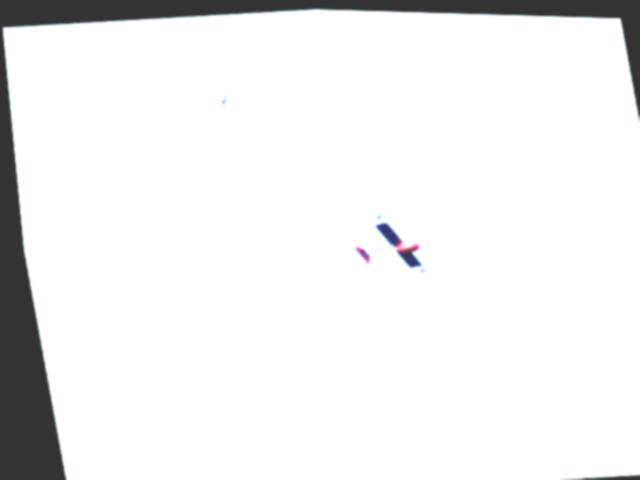uav: (330, 196, 435, 283)
